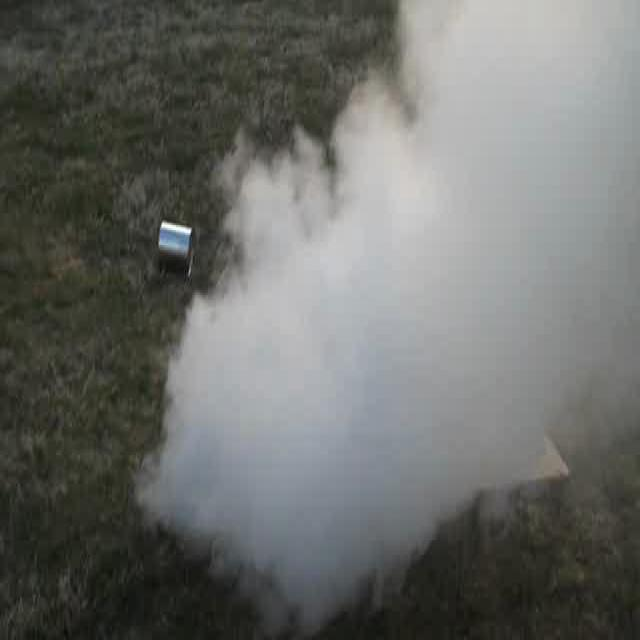Smoke: (190, 9, 638, 608)
